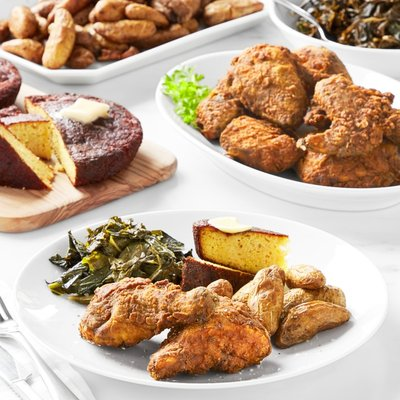curry: (46, 215, 186, 300)
sushi: (154, 26, 400, 213), (266, 0, 400, 83)
